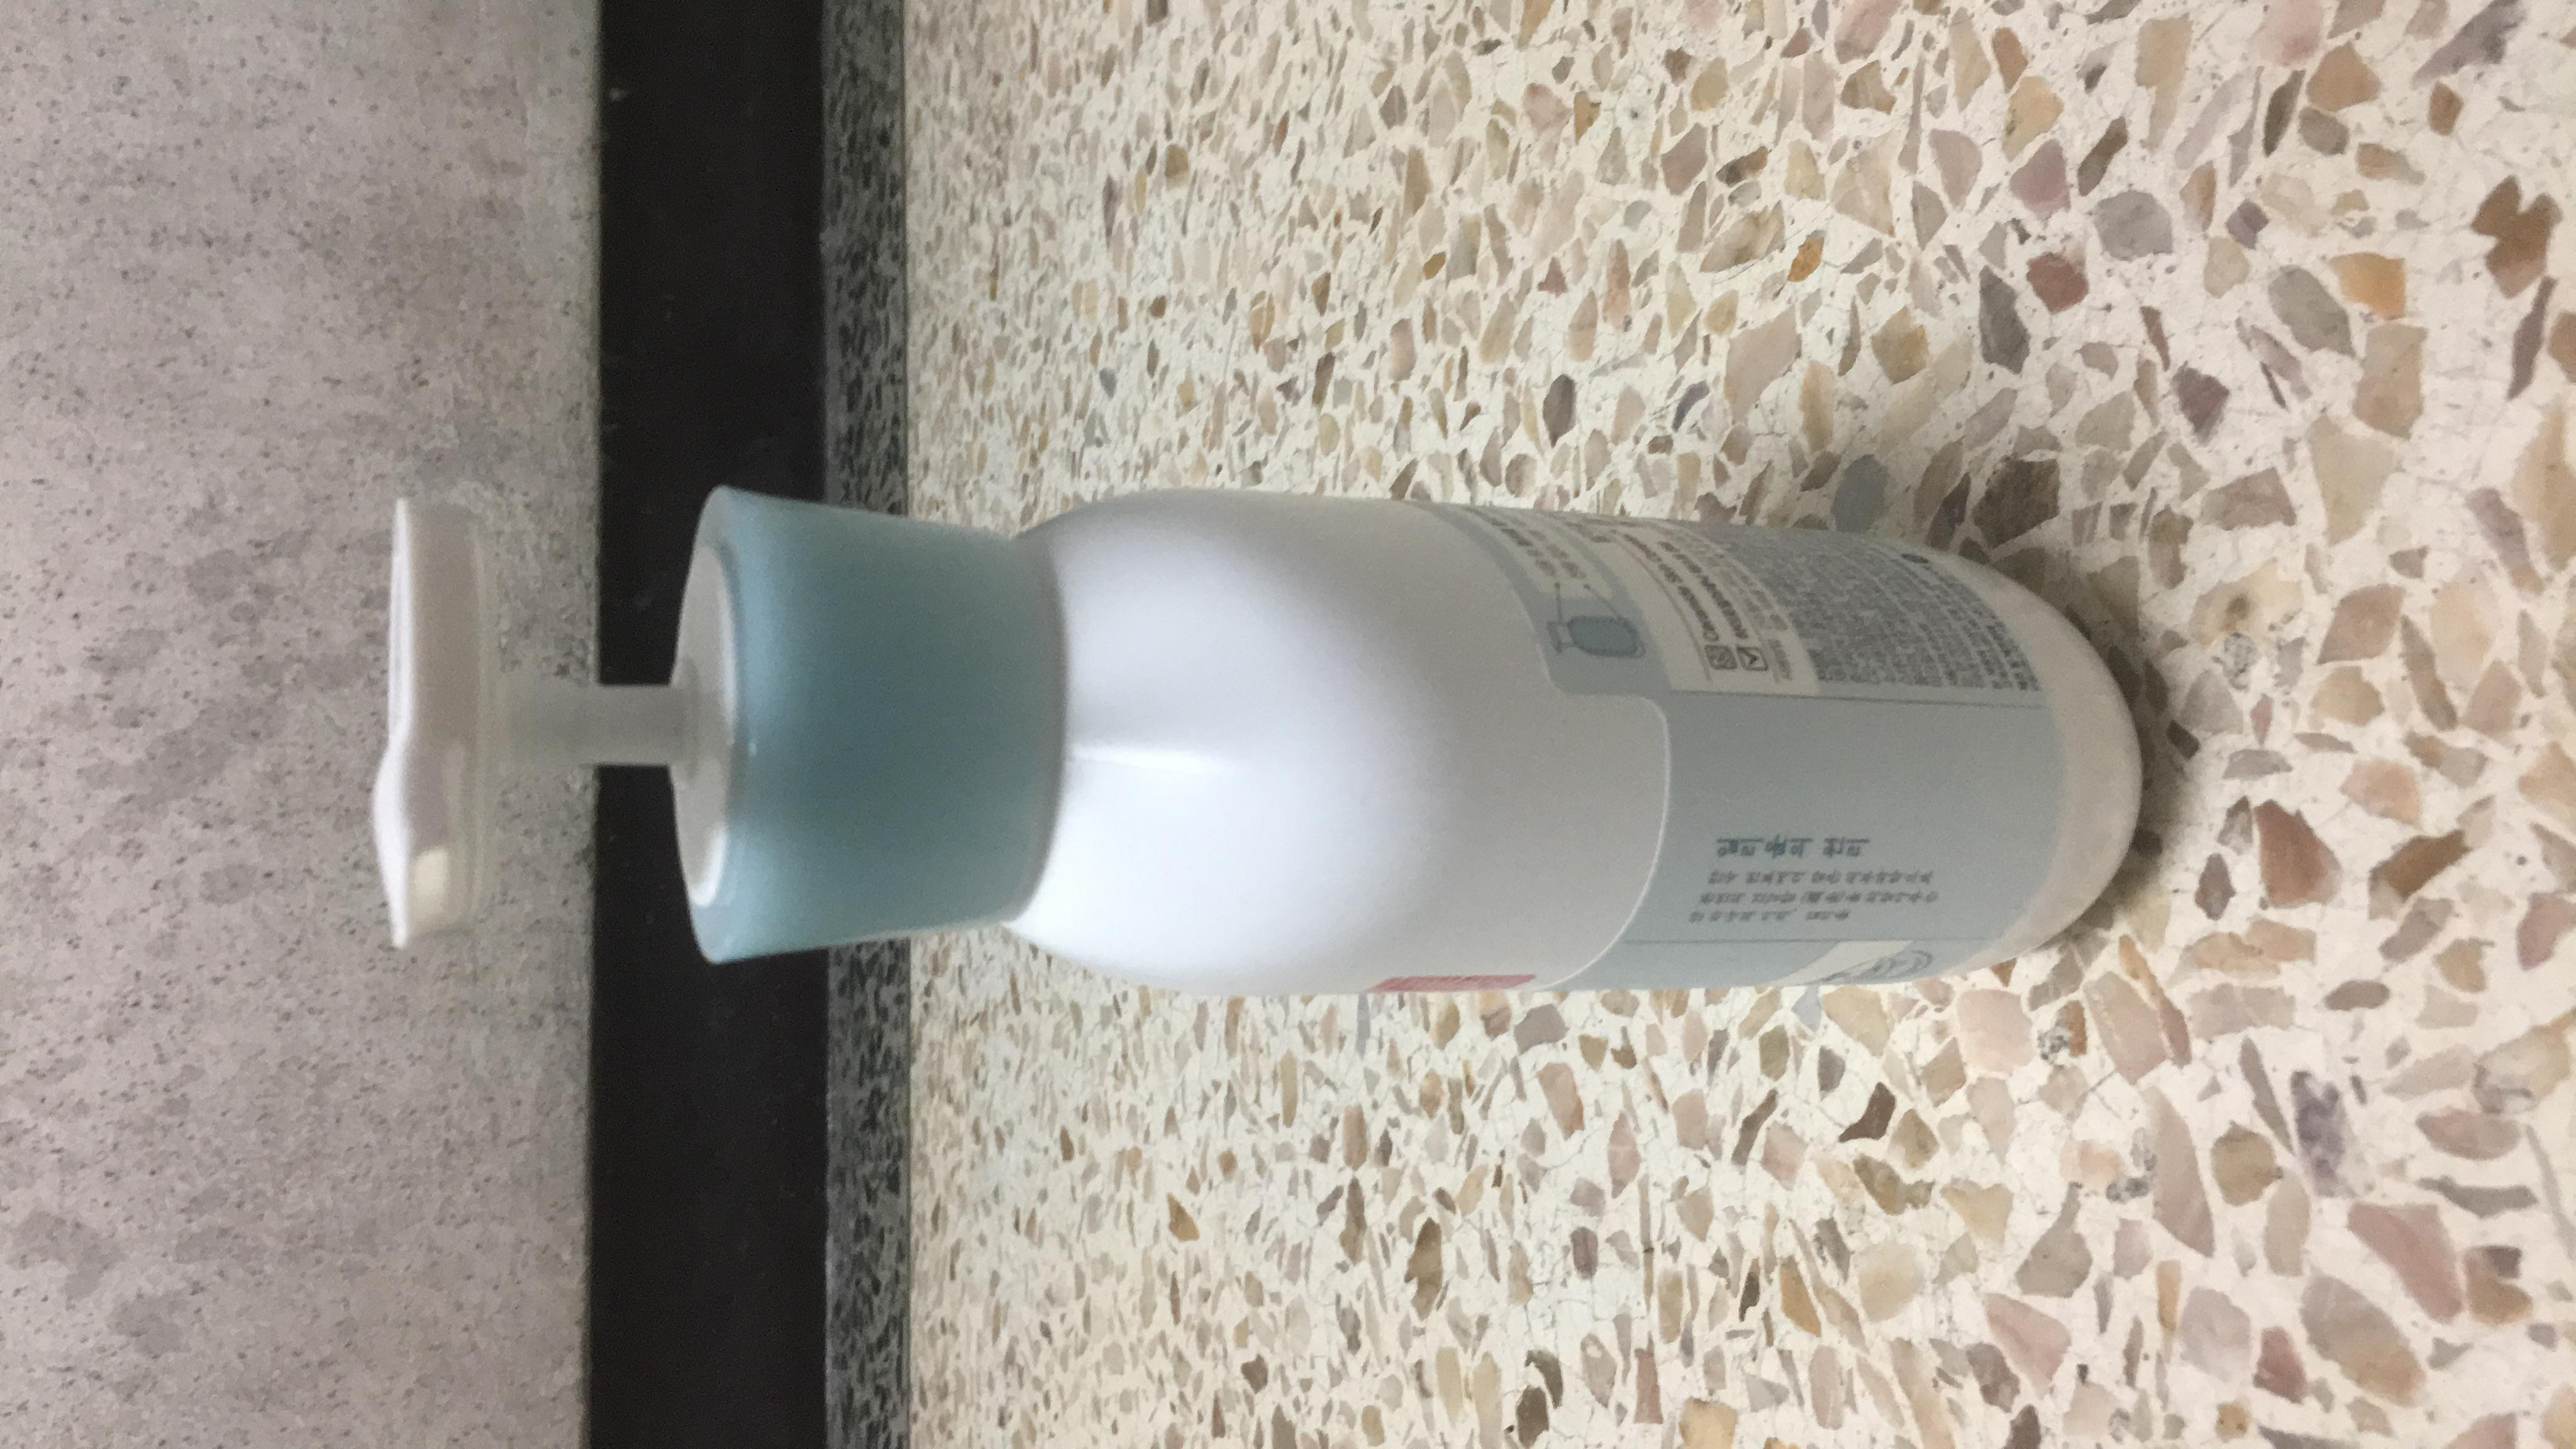bottle: (538, 122, 1828, 1212)
